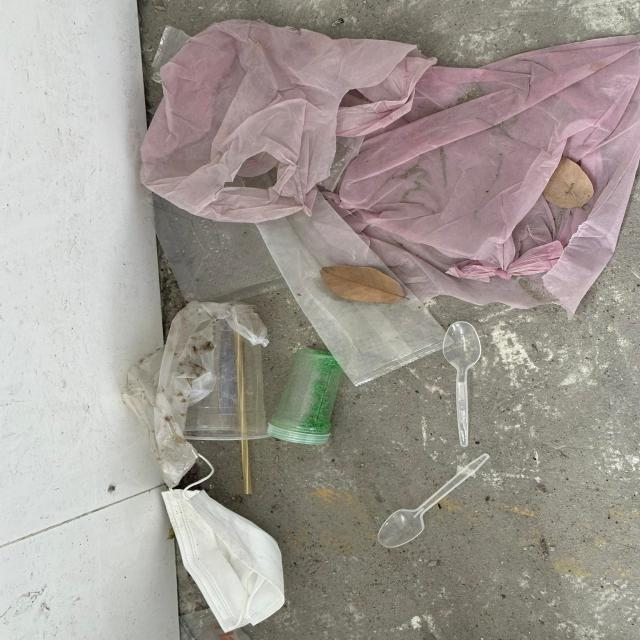bag: (141, 18, 438, 223)
drinking straw: (233, 326, 252, 495)
mask: (161, 490, 285, 634)
plastic glass: (179, 304, 271, 440)
plastic utensil: (376, 452, 492, 548), (442, 321, 482, 448)
